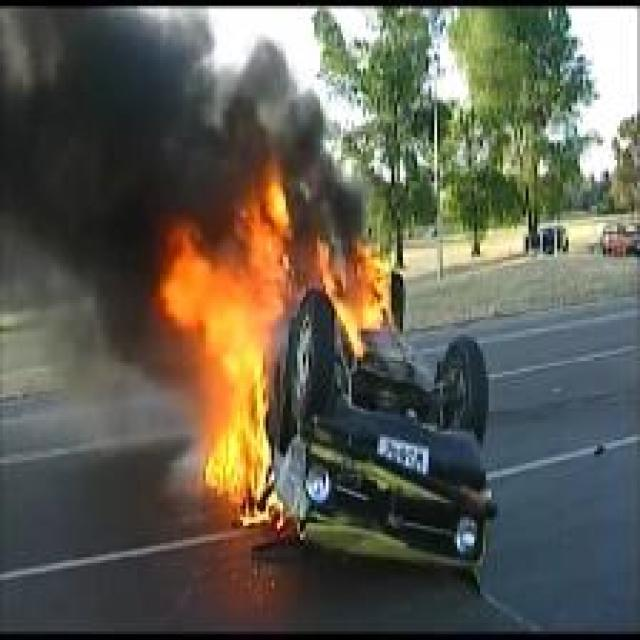Fire: (163, 157, 297, 523), (314, 242, 394, 362)
